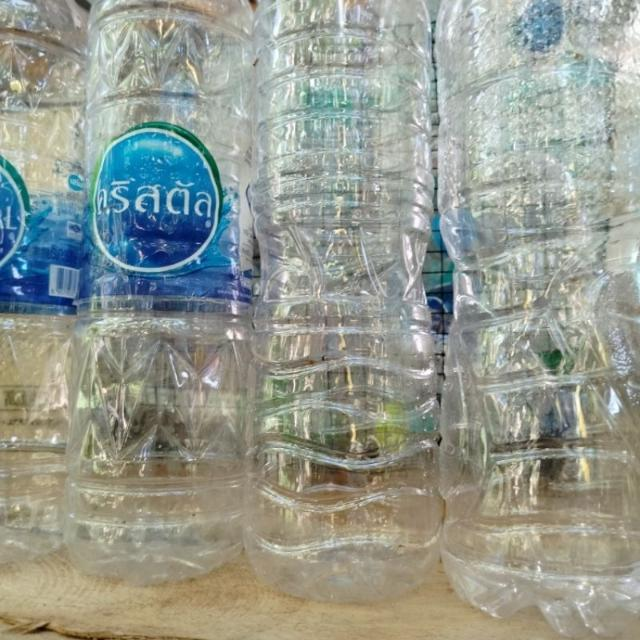PET Bottle: (434, 2, 639, 637), (69, 0, 258, 593), (254, 4, 438, 596), (0, 0, 90, 568)
